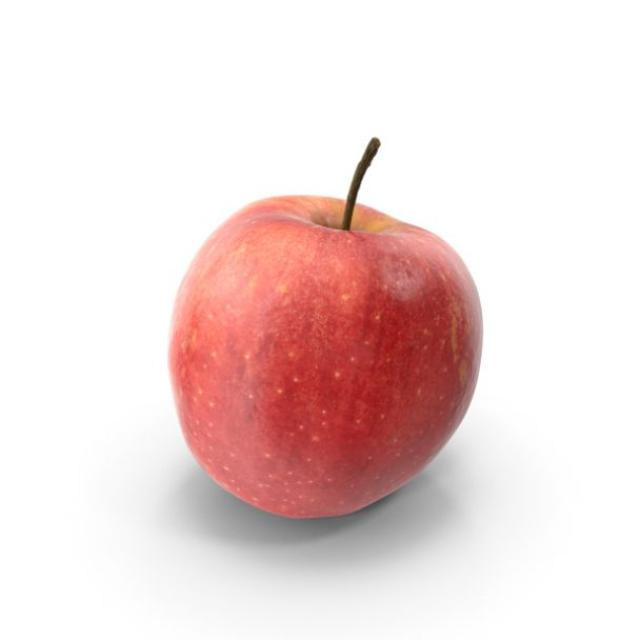Healty Apple: (134, 162, 506, 527)
